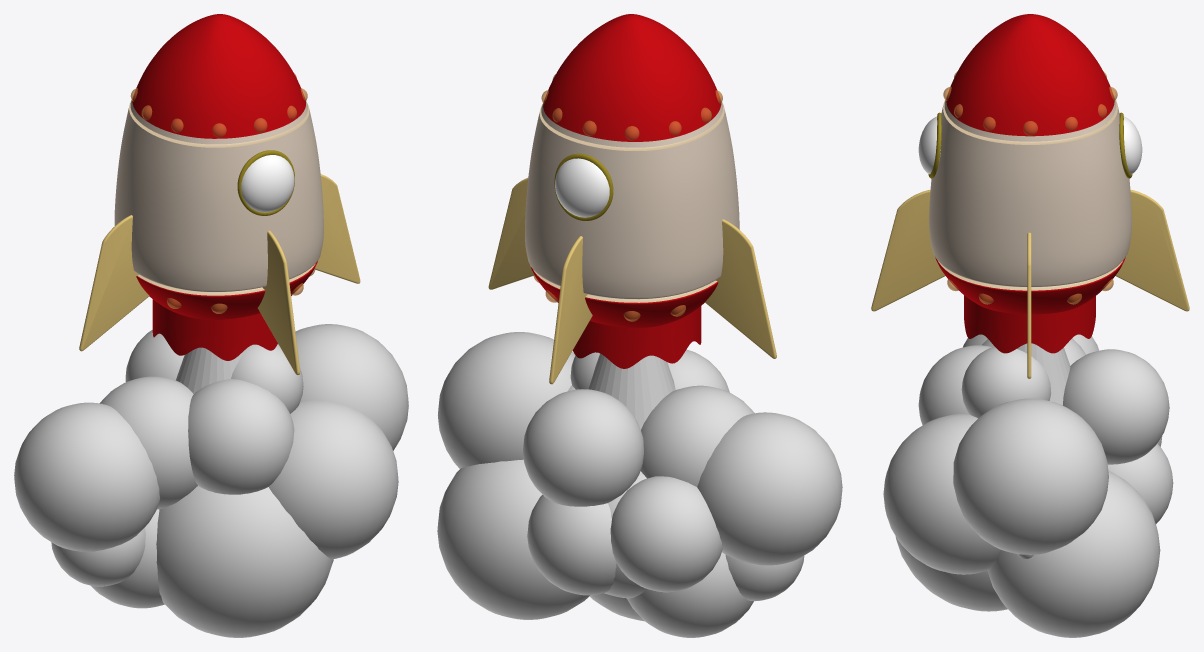
The picture shows the model from 3 angles, left to right: view 1: azimuth 30°, elevation 25°; view 2: azimuth 150°, elevation 25°; view 3: azimuth 270°, elevation 25°; orthographic projection. The views are drawn at different scales.
Visible parts, largest first — view 1: 珠子, 机身, 机翼, 喷射口, 窗, 喷射器, 窗环; view 2: 珠子, 机身, 机翼, 喷射口, 喷射器, 窗, 窗环; view 3: 珠子, 机身, 机翼, 喷射口, 窗, 喷射器, 窗环.
Boxes of the visible parts, x1,y1,x2,y2 form: 珠子: [14, 73, 408, 637]; 机身: [114, 14, 323, 319]; 机翼: [79, 174, 360, 375]; 喷射口: [152, 299, 277, 360]; 窗: [241, 155, 294, 212]; 喷射器: [176, 347, 246, 393]; 窗环: [237, 150, 294, 215]; 珠子: [437, 74, 842, 637]; 机身: [525, 14, 739, 327]; 机翼: [488, 178, 776, 384]; 喷射口: [573, 306, 701, 368]; 喷射器: [588, 353, 675, 429]; 窗: [555, 158, 609, 217]; 窗环: [554, 153, 613, 220]; 珠子: [883, 71, 1173, 637]; 机身: [929, 14, 1131, 314]; 机翼: [871, 189, 1189, 378]; 喷射口: [964, 295, 1095, 353]; 窗: [918, 116, 1142, 174]; 喷射器: [1017, 343, 1070, 404]; 窗环: [928, 112, 1132, 178].
Bounding box in the file's own units: 3.53 × 5.38 × 2.64.
